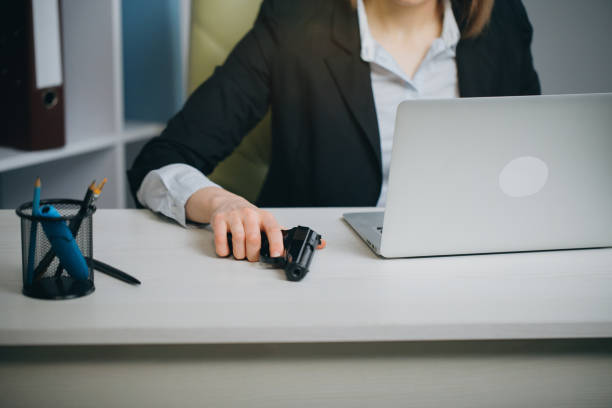gun: (261, 224, 322, 282)
